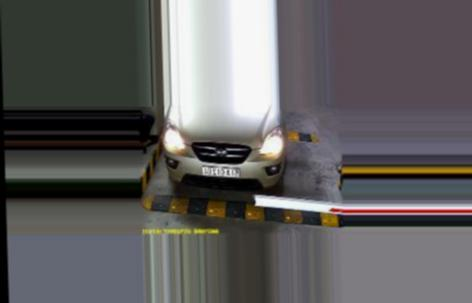License_Plate: (201, 165, 242, 176)
